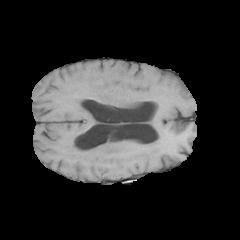glioma: (63, 138, 164, 167)
